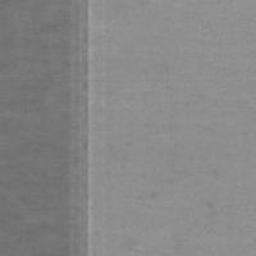Welding line: (83, 0, 90, 256)
